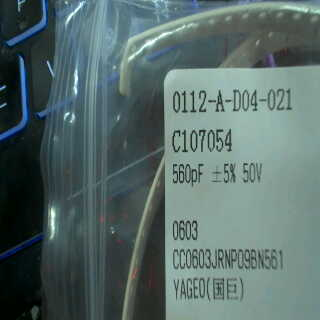560pF: (169, 159, 205, 189)
